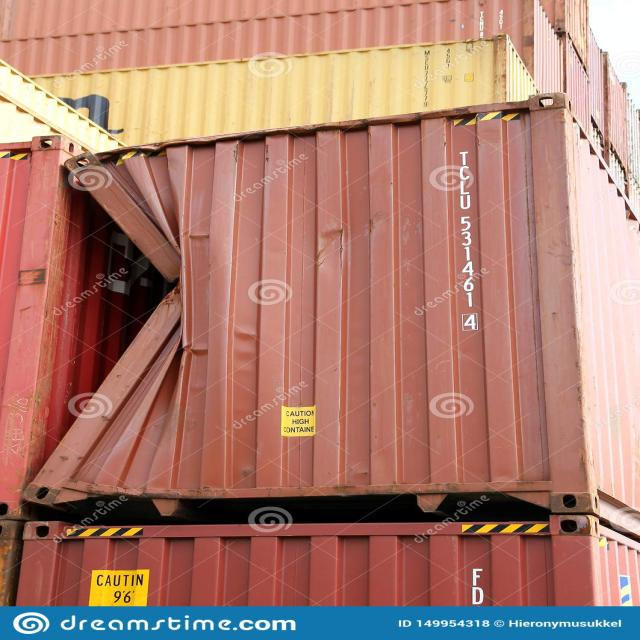dent: (21, 283, 187, 506), (65, 151, 182, 283), (97, 141, 189, 258)
